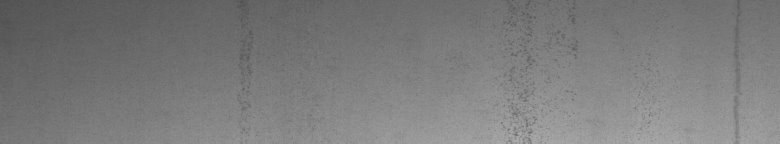ib: (497, 12, 577, 136)
